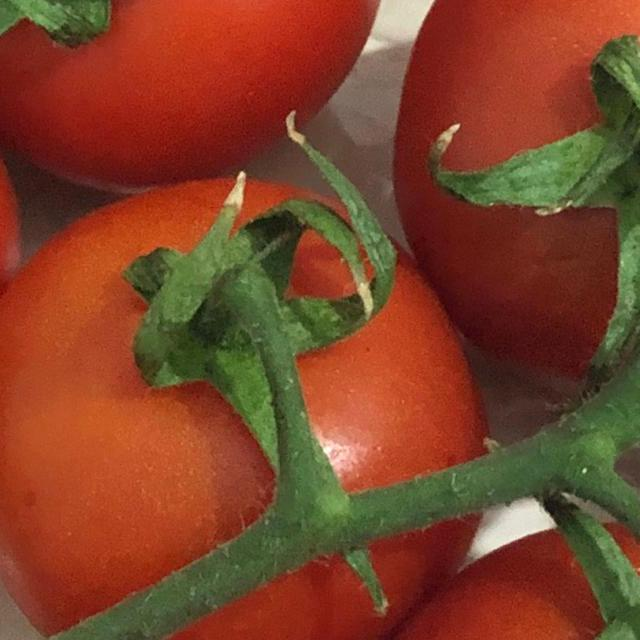tomato: (0, 155, 495, 640), (392, 0, 640, 400), (0, 0, 395, 167)
